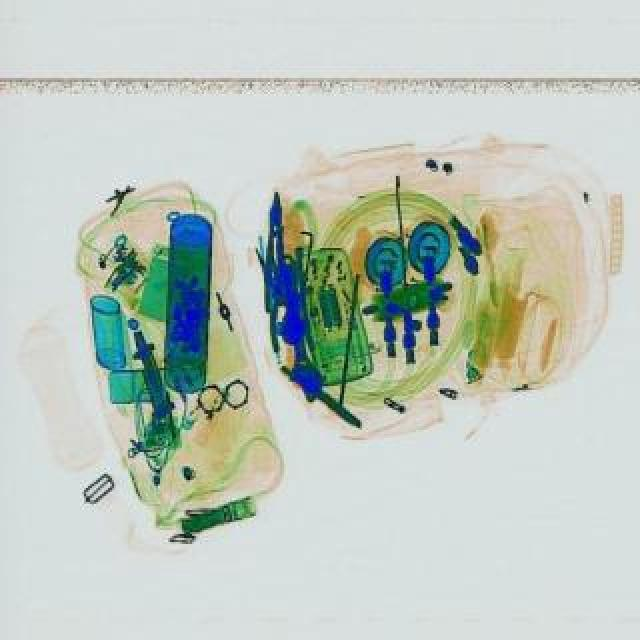wrench: (270, 228, 290, 350)
